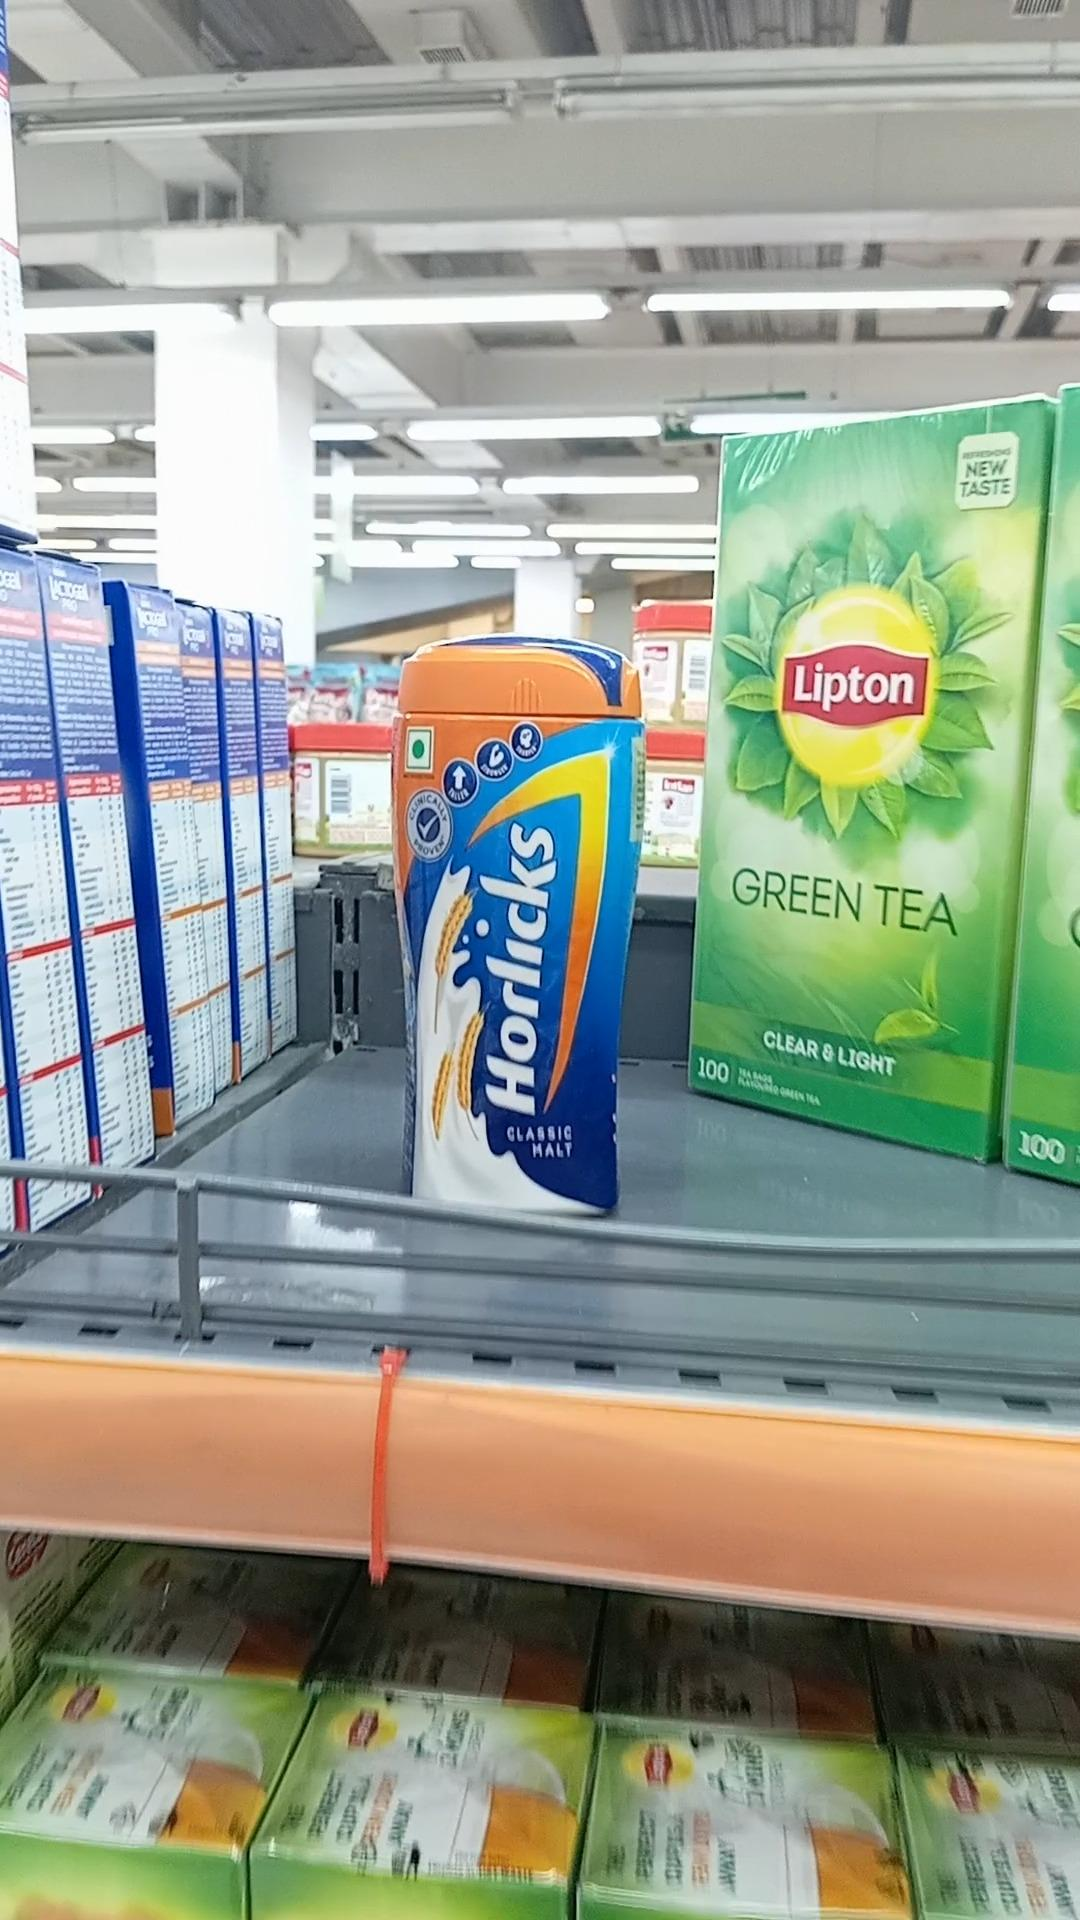HORLICK_CLASSIC_MALT_200_G_JAR: (394, 645, 618, 1241)
